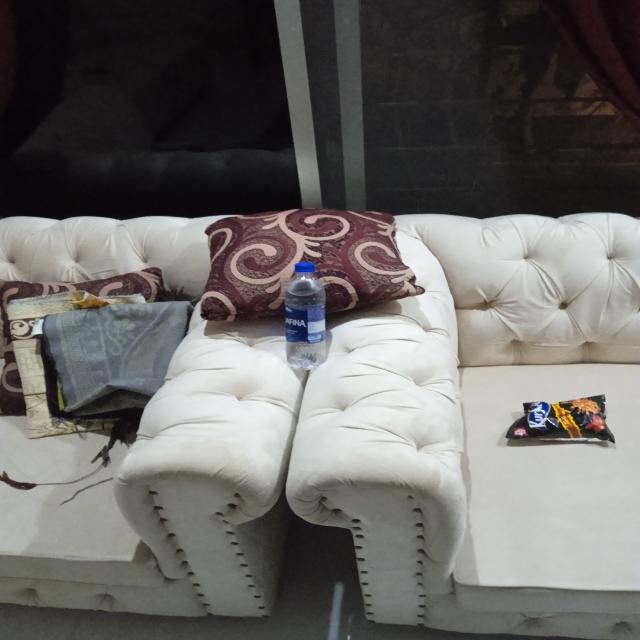Plastic: (276, 258, 338, 372)
